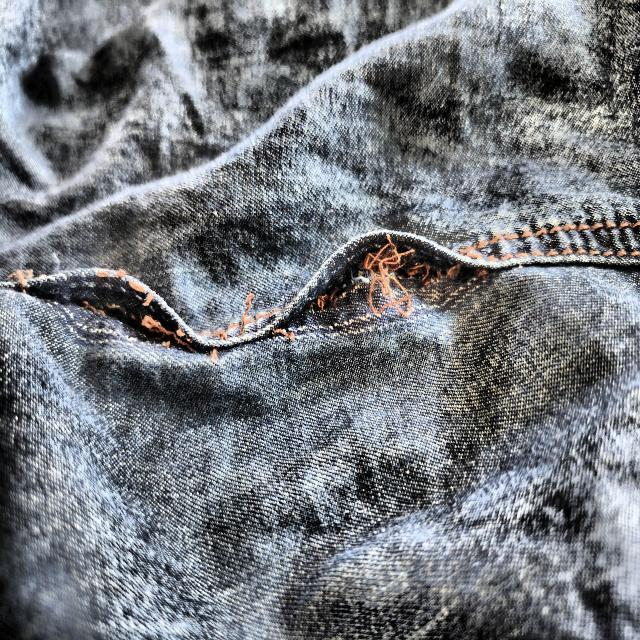gray stitch: (290, 224, 514, 325), (16, 256, 224, 362)
